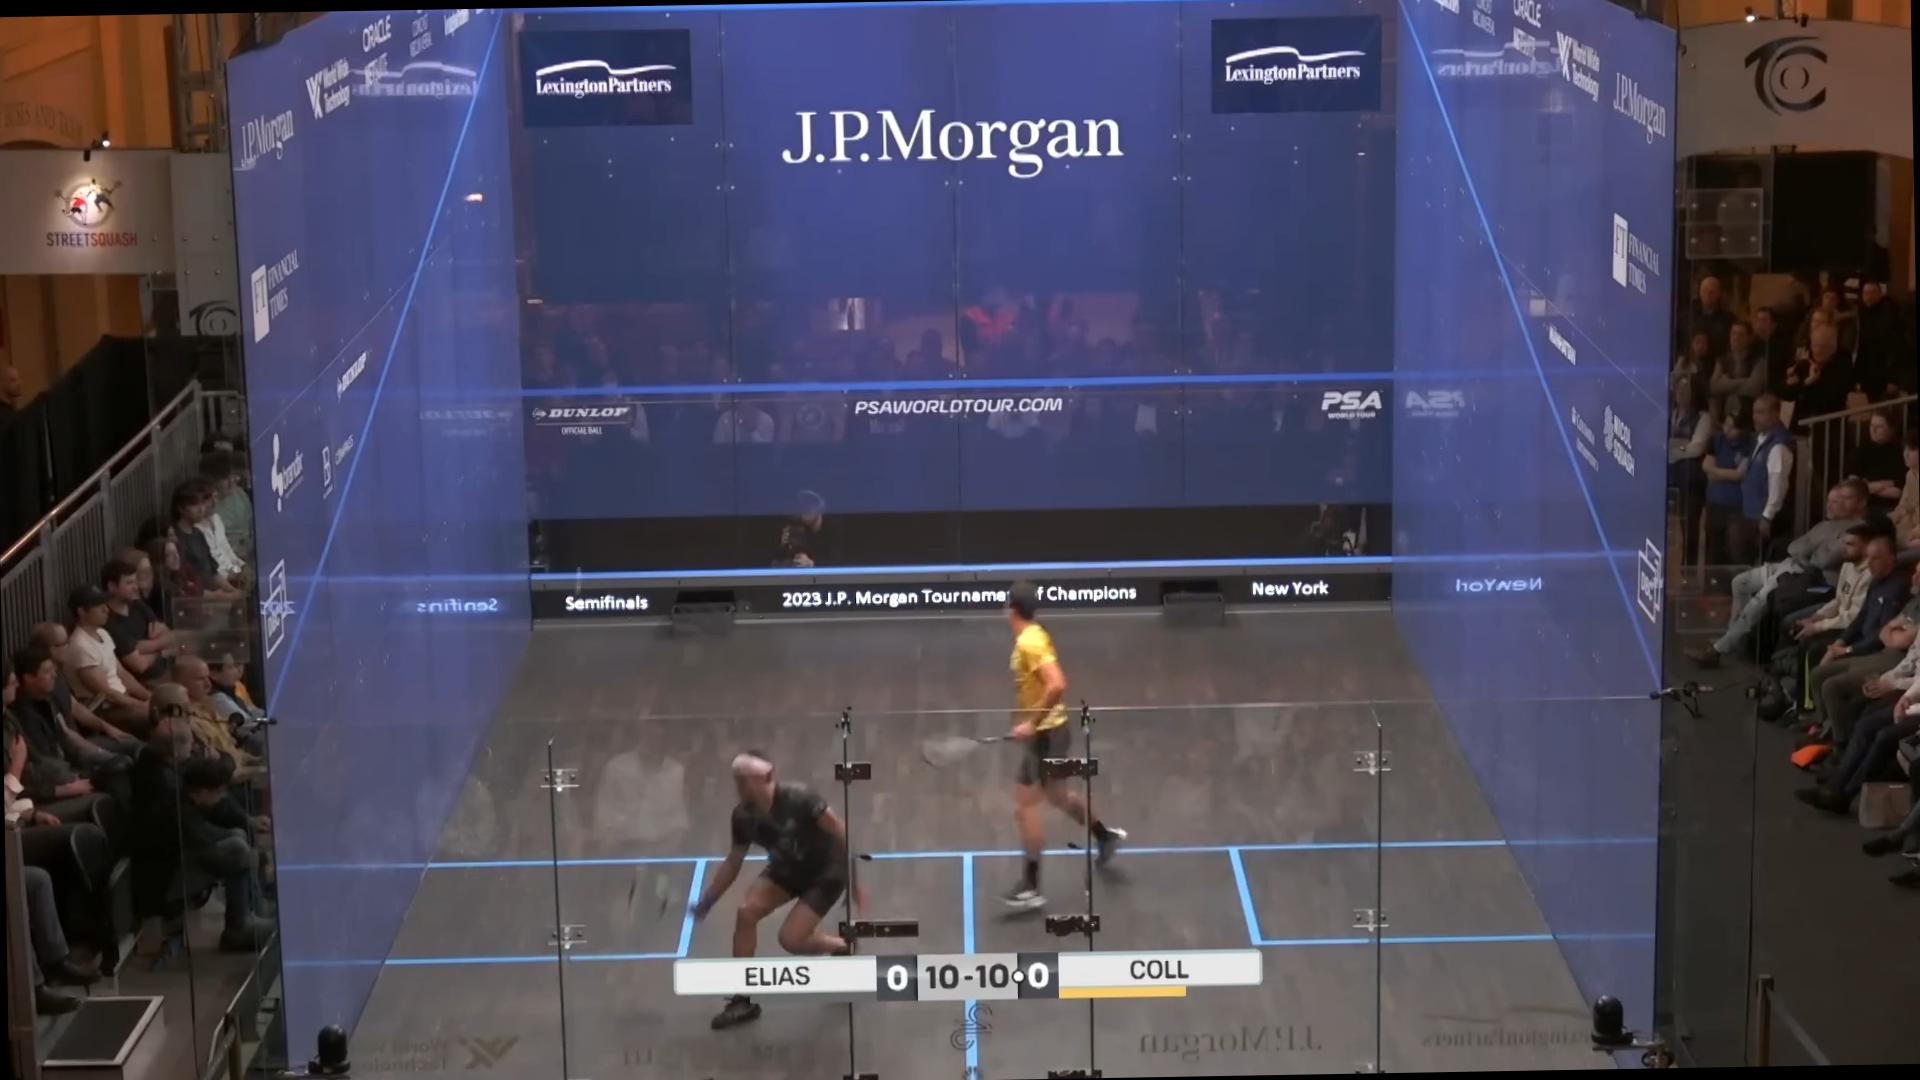Racket: (895, 713, 1026, 775)
